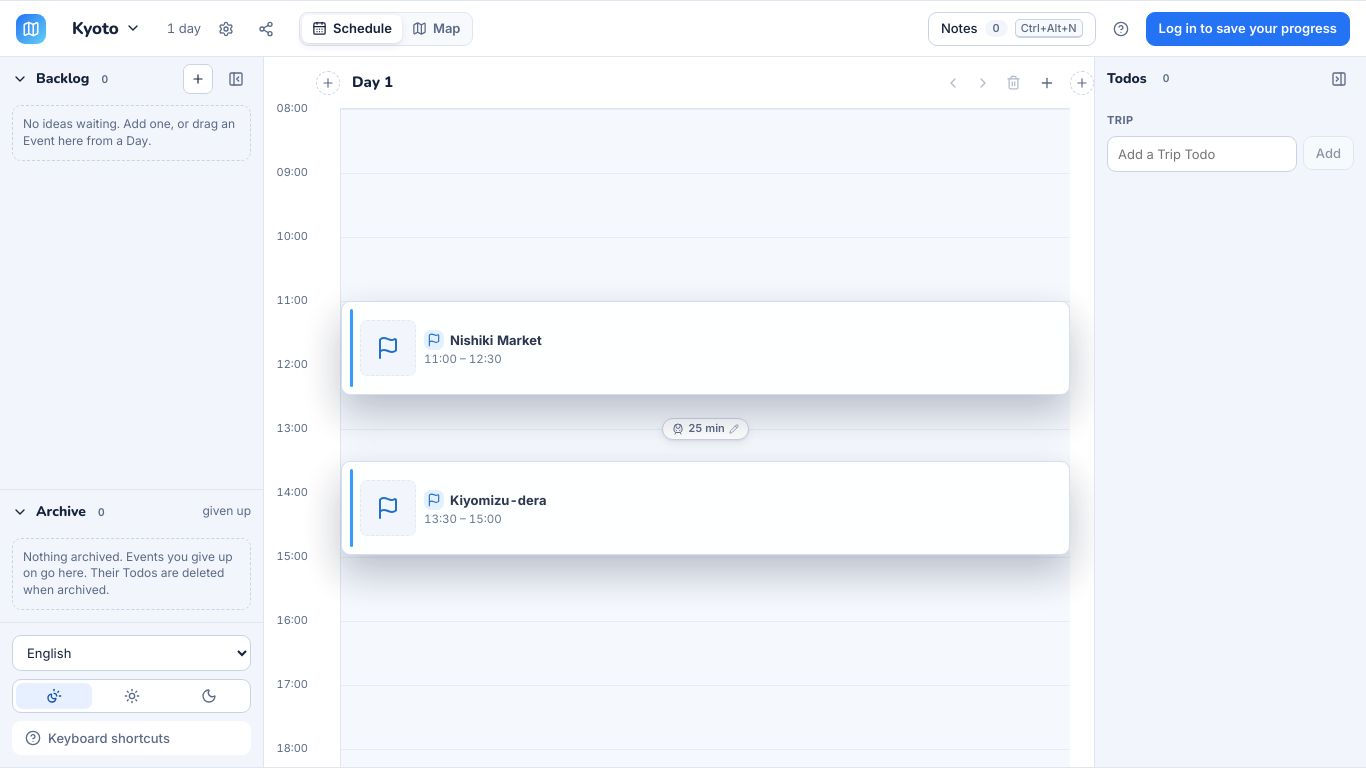
it: a Leg with a duration entered by hand › is pointed out when an Event next to it changes its time
This screenshot has width=1366, height=768.
Click the button "Kiyomizu-dera 13:30 – 15:00" at (388, 508), box [342, 462, 1069, 554]
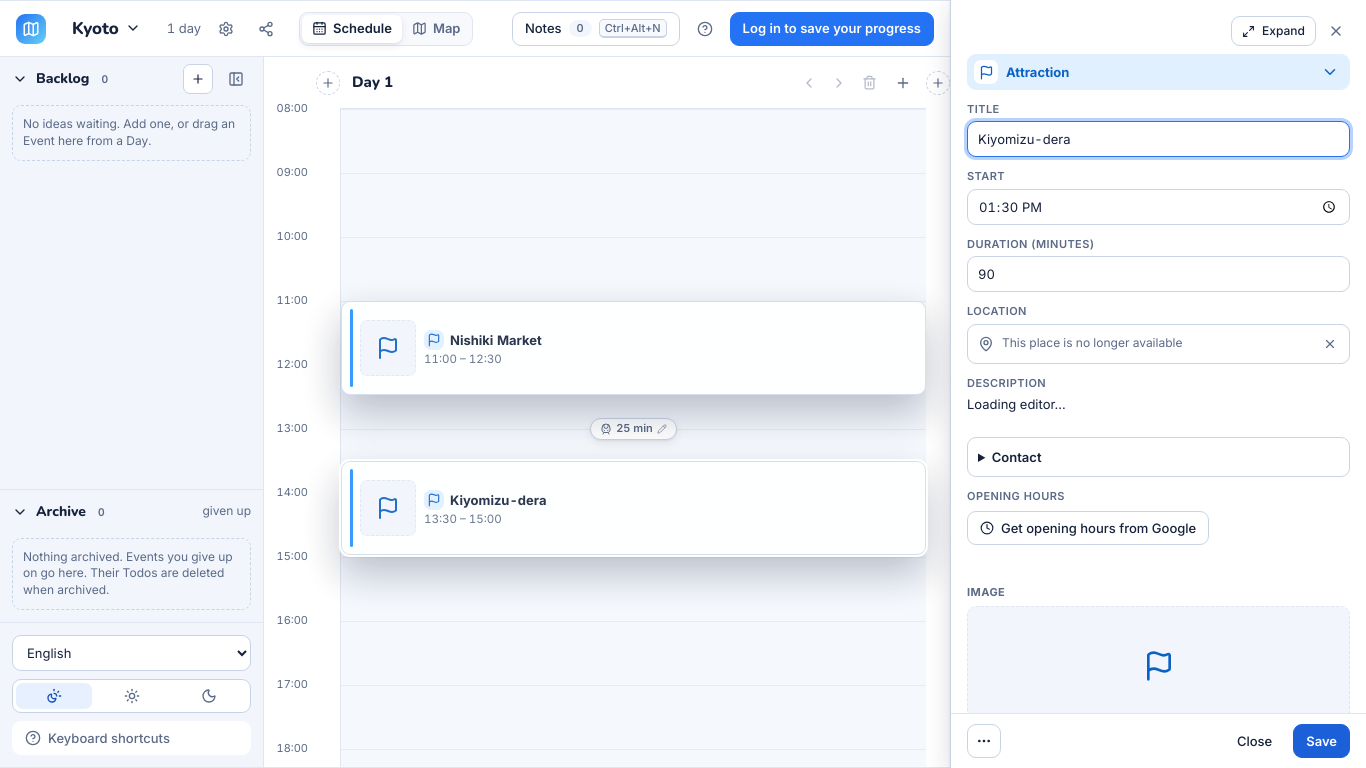
Replace the text in the time field labelled "Start" with "13:45" at (1158, 207), box [967, 189, 1350, 225]
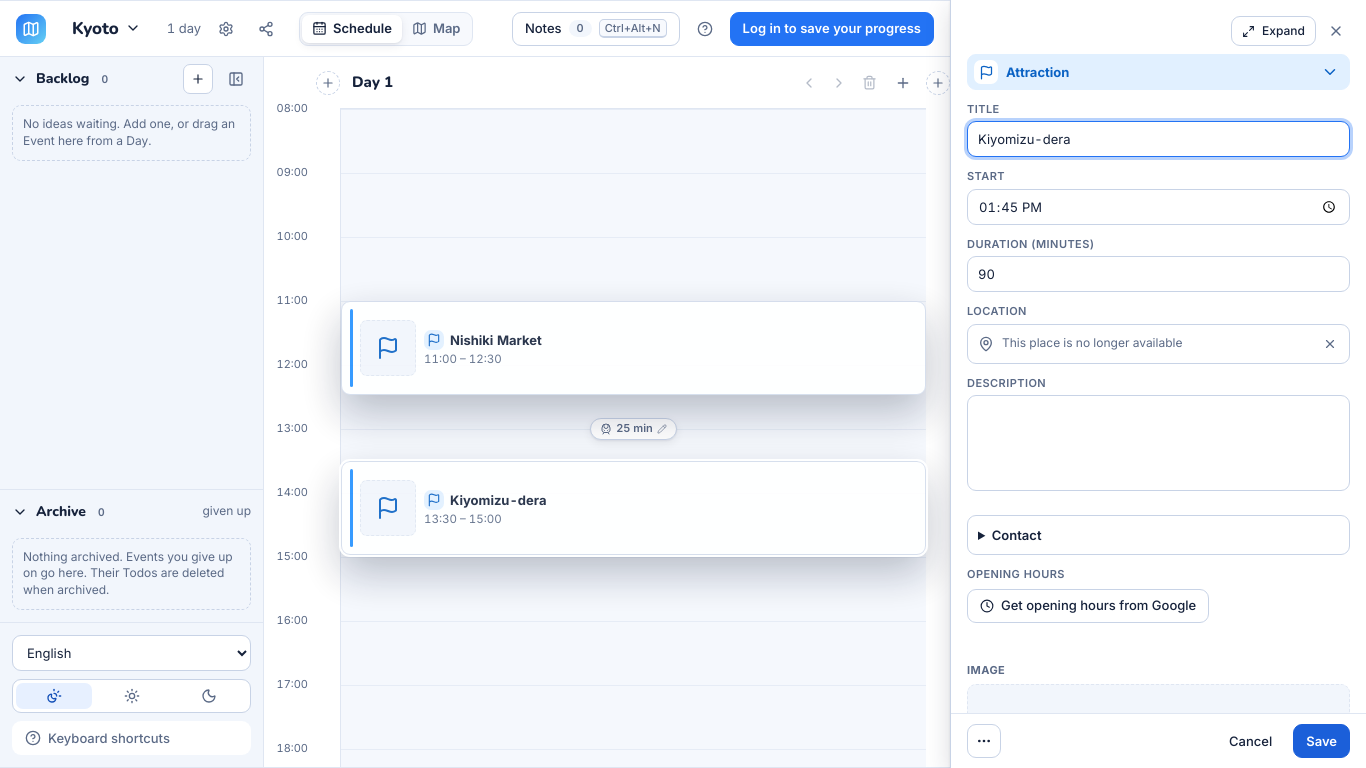
Click the button "Save" at (1322, 741), box [1293, 724, 1350, 758]
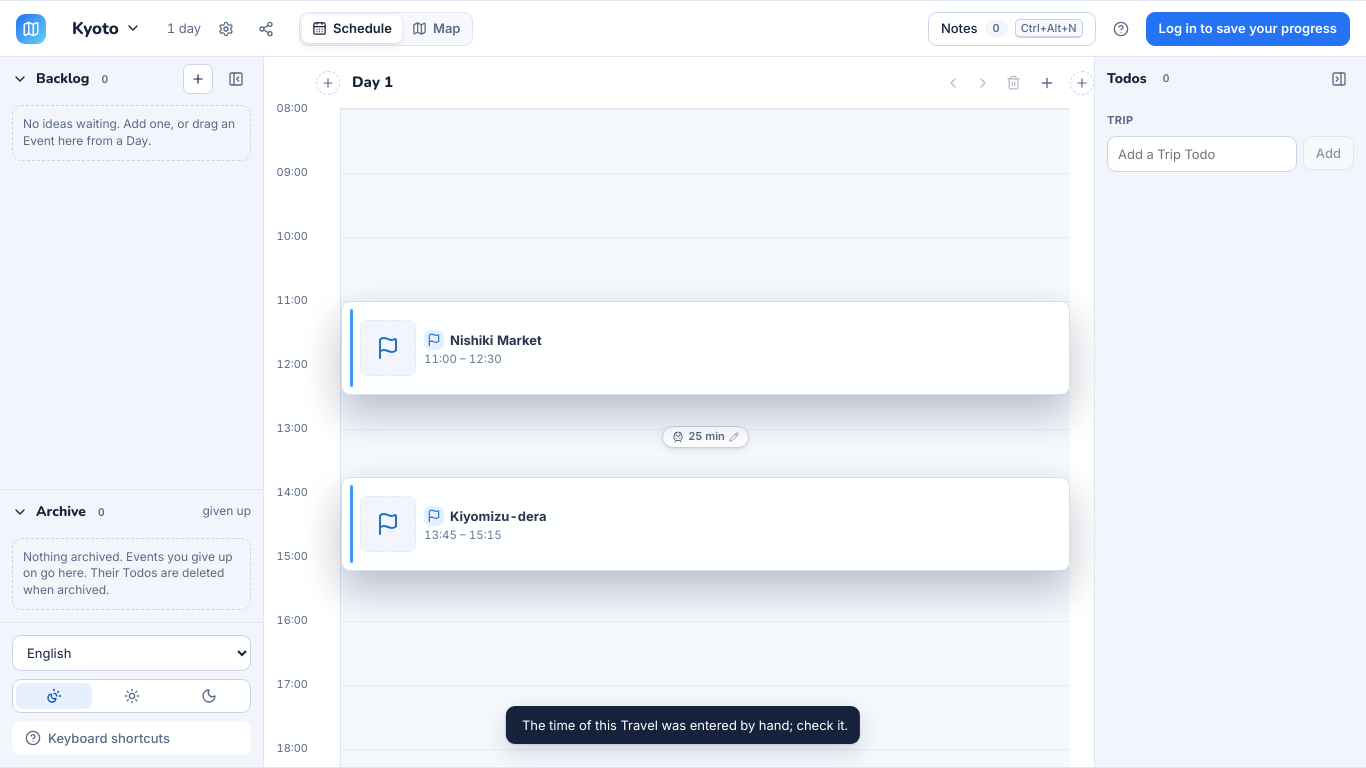
Now the text "The time of this Travel was entered by hand; check it." is shown, box [522, 716, 848, 734]
